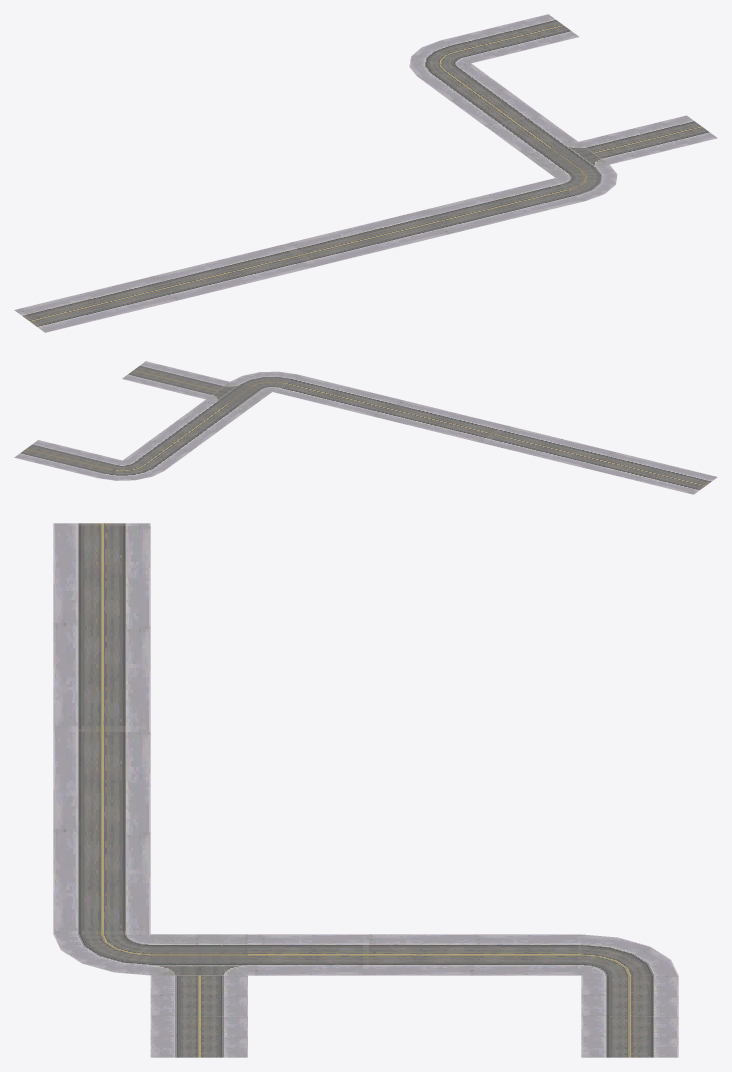
The model's file is lodasnroad43.obj.
The picture shows the model from 3 angles, top to bottom: view 1: azimuth 30°, elevation 25°; view 2: azimuth 150°, elevation 25°; view 3: azimuth 270°, elevation 25°; orthographic projection. The views are drawn at different scales.
Visible parts, largest first — view 1: lodasNroad43; view 2: lodasNroad43; view 3: lodasNroad43.
Boxes of the visible parts, x1,y1,x2,y2 form: lodasNroad43: [14, 14, 717, 332]; lodasNroad43: [14, 361, 717, 494]; lodasNroad43: [53, 523, 678, 1057].
Size of the model in its own units: 260 by 0.015 by 128.
Materials: 2 (2 with a texture image).
